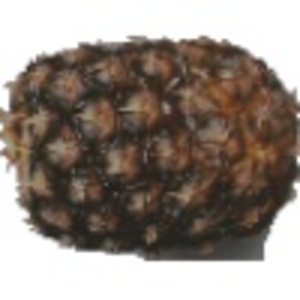abacaxi: (1, 29, 300, 254)
